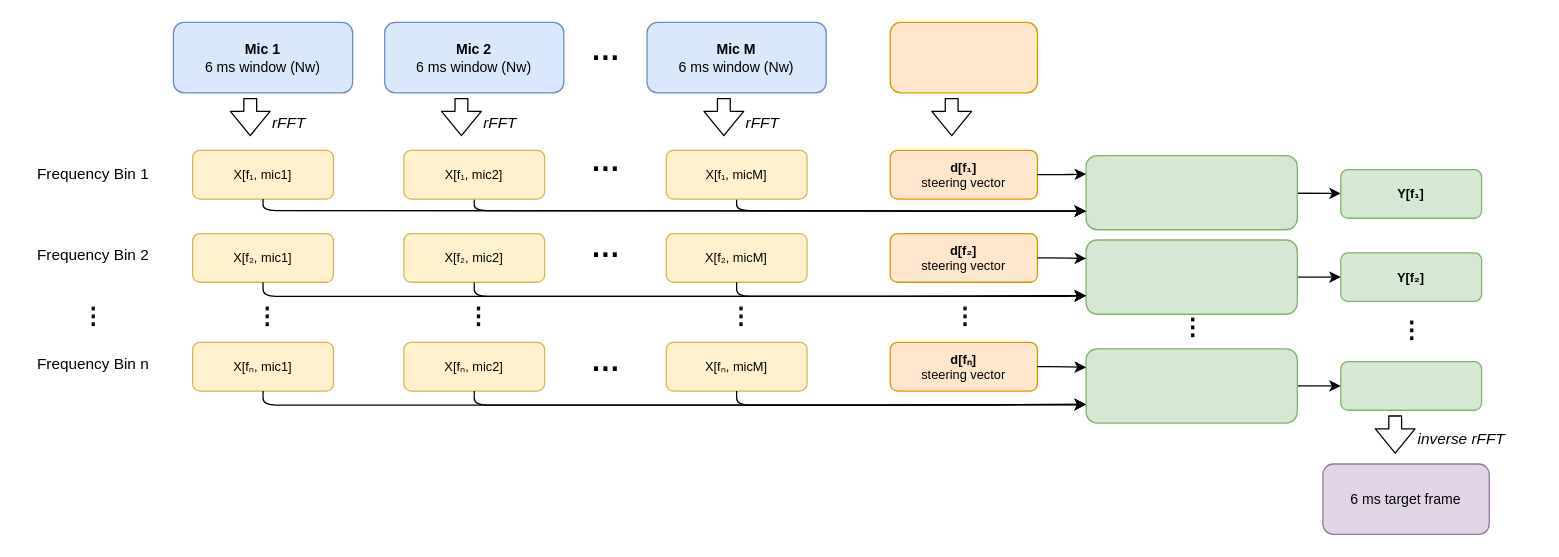
This 1559x557 diagram has some shape labels left out. The centre of each missing label's shape, as x and y in pixels:
"MVDR(f₁)" goes at [1191,192].
"MVDR(f₂)" goes at [1191,276].
"MVDR(fₙ)" goes at [1191,385].
"Target coordinates & Mic coordinates" goes at [963,57].
"Y[fₙ]" goes at [1411,385].
